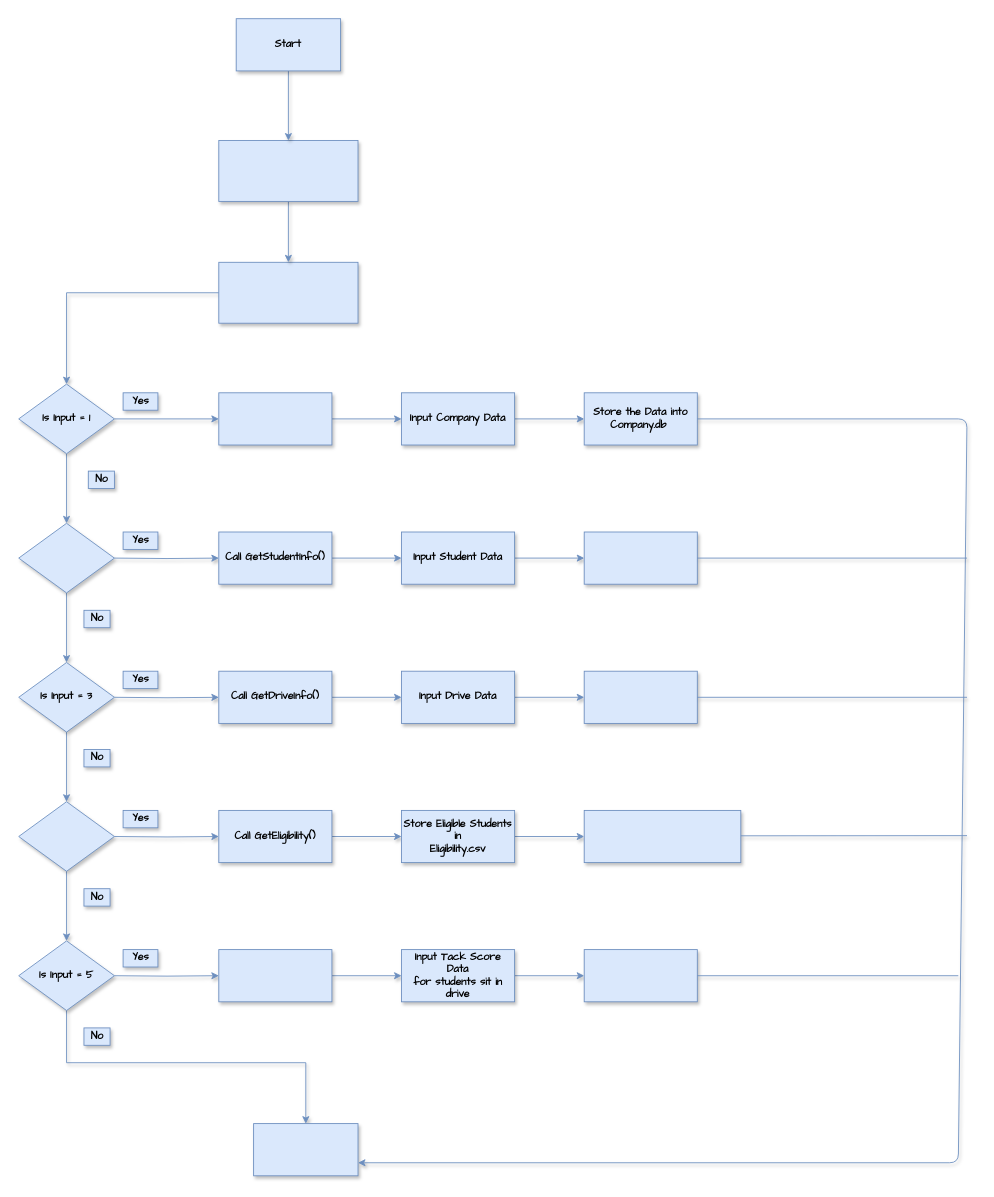
The diagram is 994 pixels wide and 1197 high, and some of its shapes have lost their labels. Here are the shapes that lost their labels. From the top down, the centre of each, then its label:
At pixel 288 171: "Call CampusPlacementDrive".
At pixel 288 293: "Input the Option in the Campus Recruitment System".
At pixel 275 419: "Call GetCompanyInfo()".
At pixel 67 559: "Is Input = 2".
At pixel 641 559: "Store the Data into Student.db".
At pixel 641 698: "Store the Data into Drive.db".
At pixel 67 837: "Is Input = 4".
At pixel 663 837: "Call SendEligibleNotifications() to inform the eligible students".
At pixel 275 976: "Call GetTrackScore()".
At pixel 641 976: "Send Message to the Selected Students".
At pixel 306 1150: "End".
